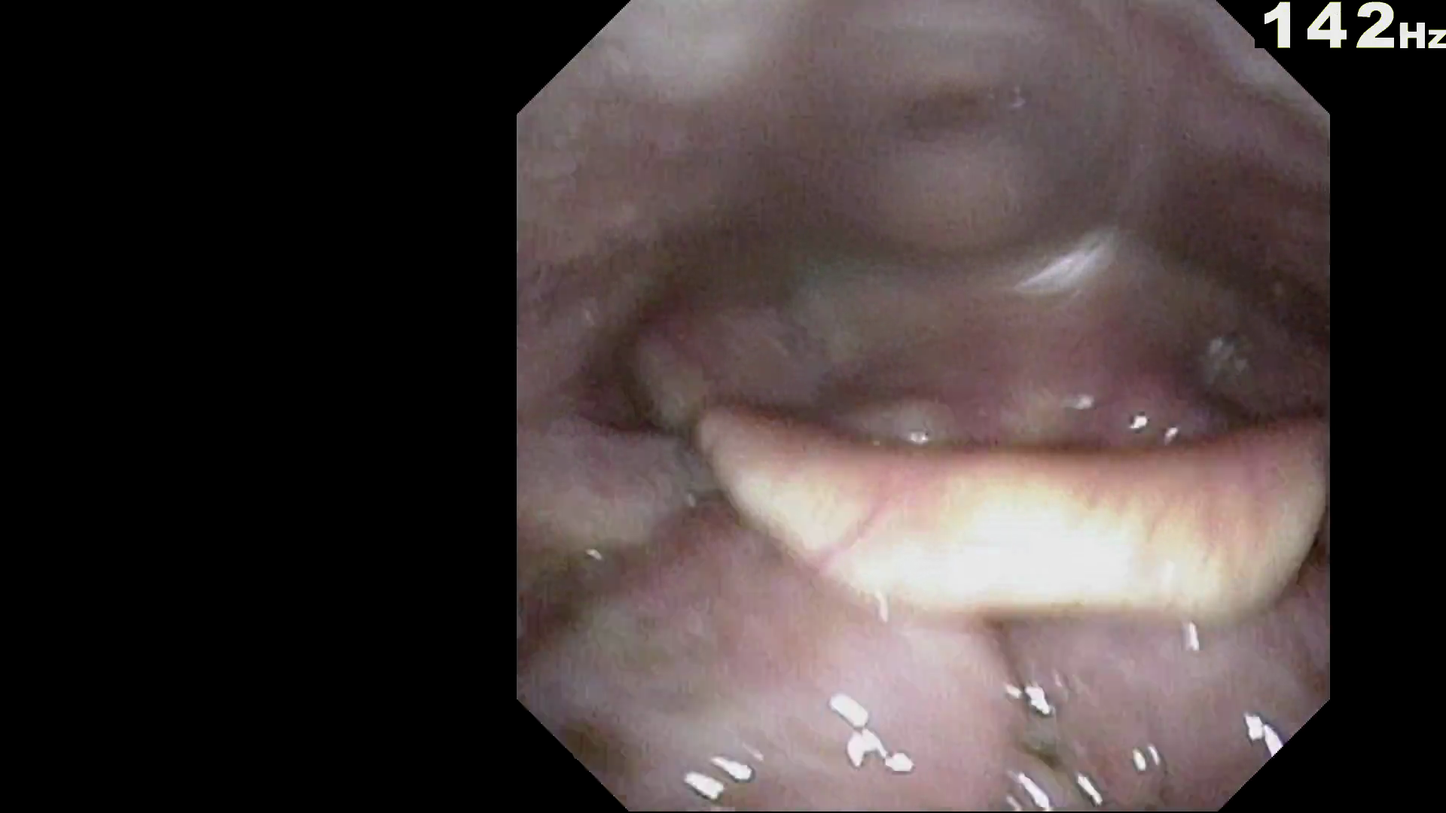epiglottis: (664, 411, 1280, 636)
